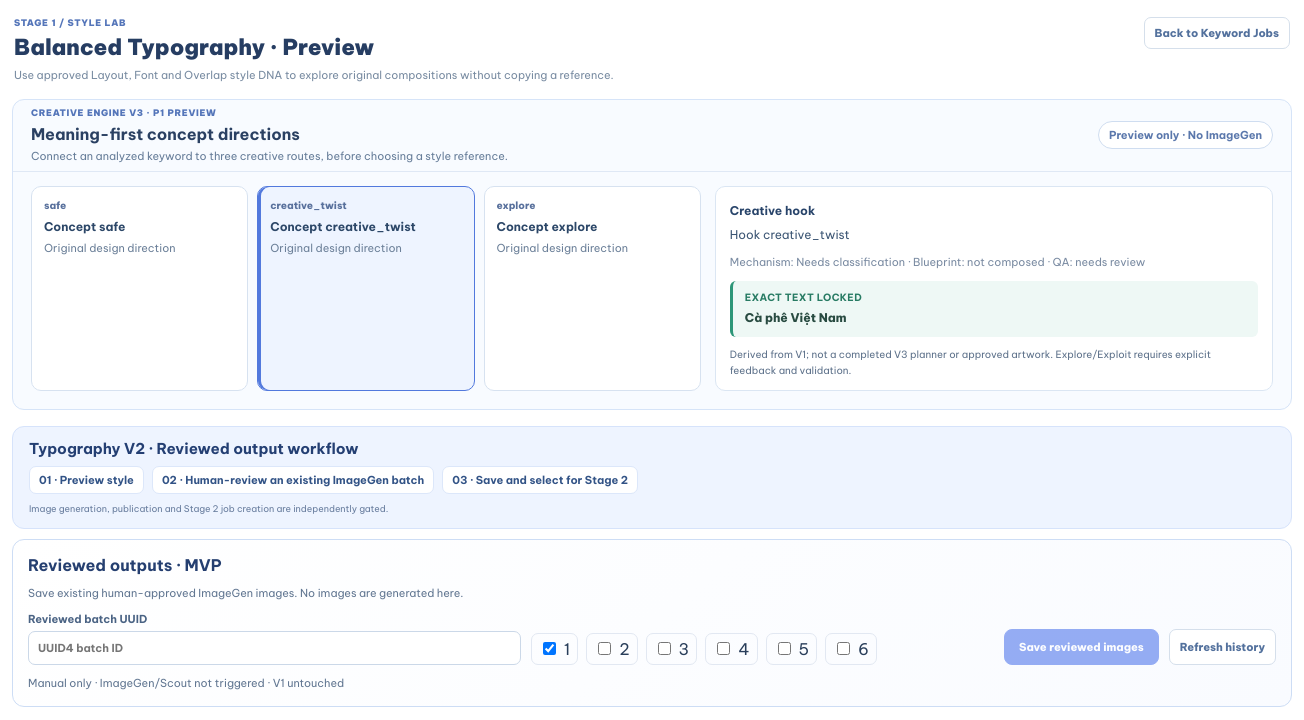
Scenario: Creative Engine V3 read-only P1 bridge › shows three distinct concepts only behind an explicit server canary
Step 1. Click the button "explore Concept explore Original design direction" → [592, 289], box [484,186,701,392]
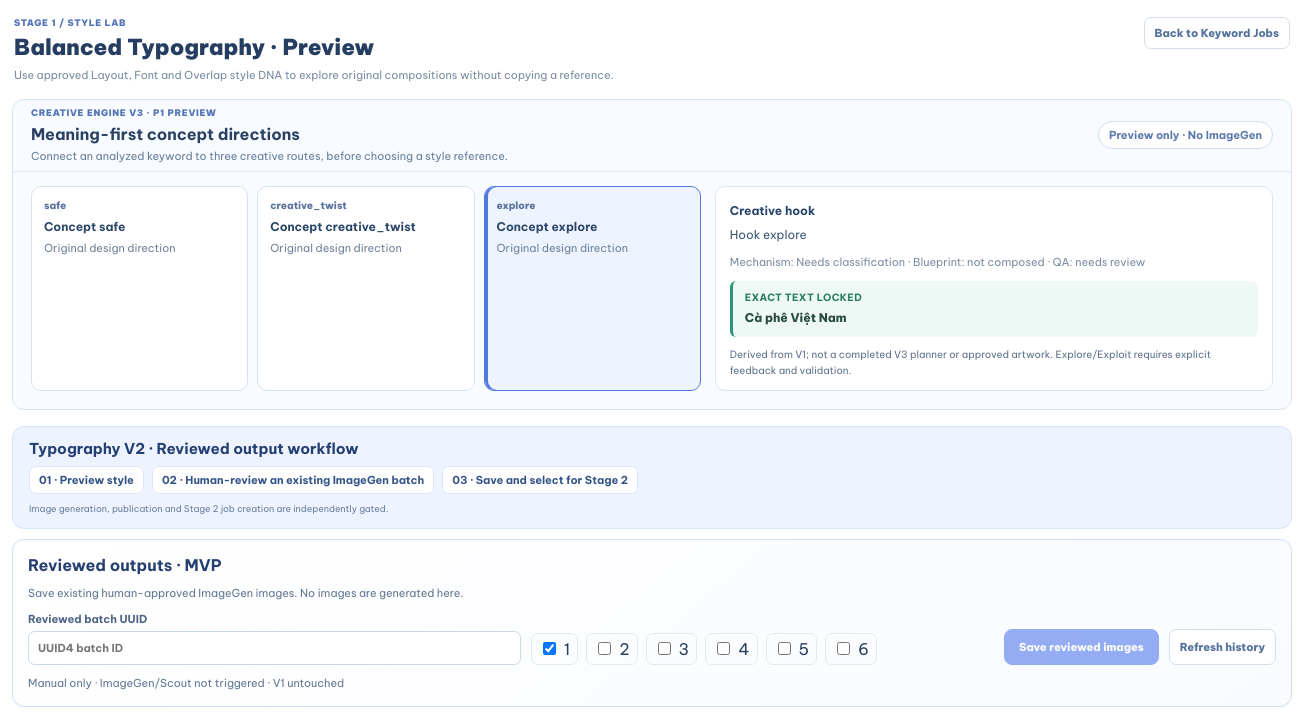
expect the text "Hook explore" is shown: met, box [730,227,807,242]
